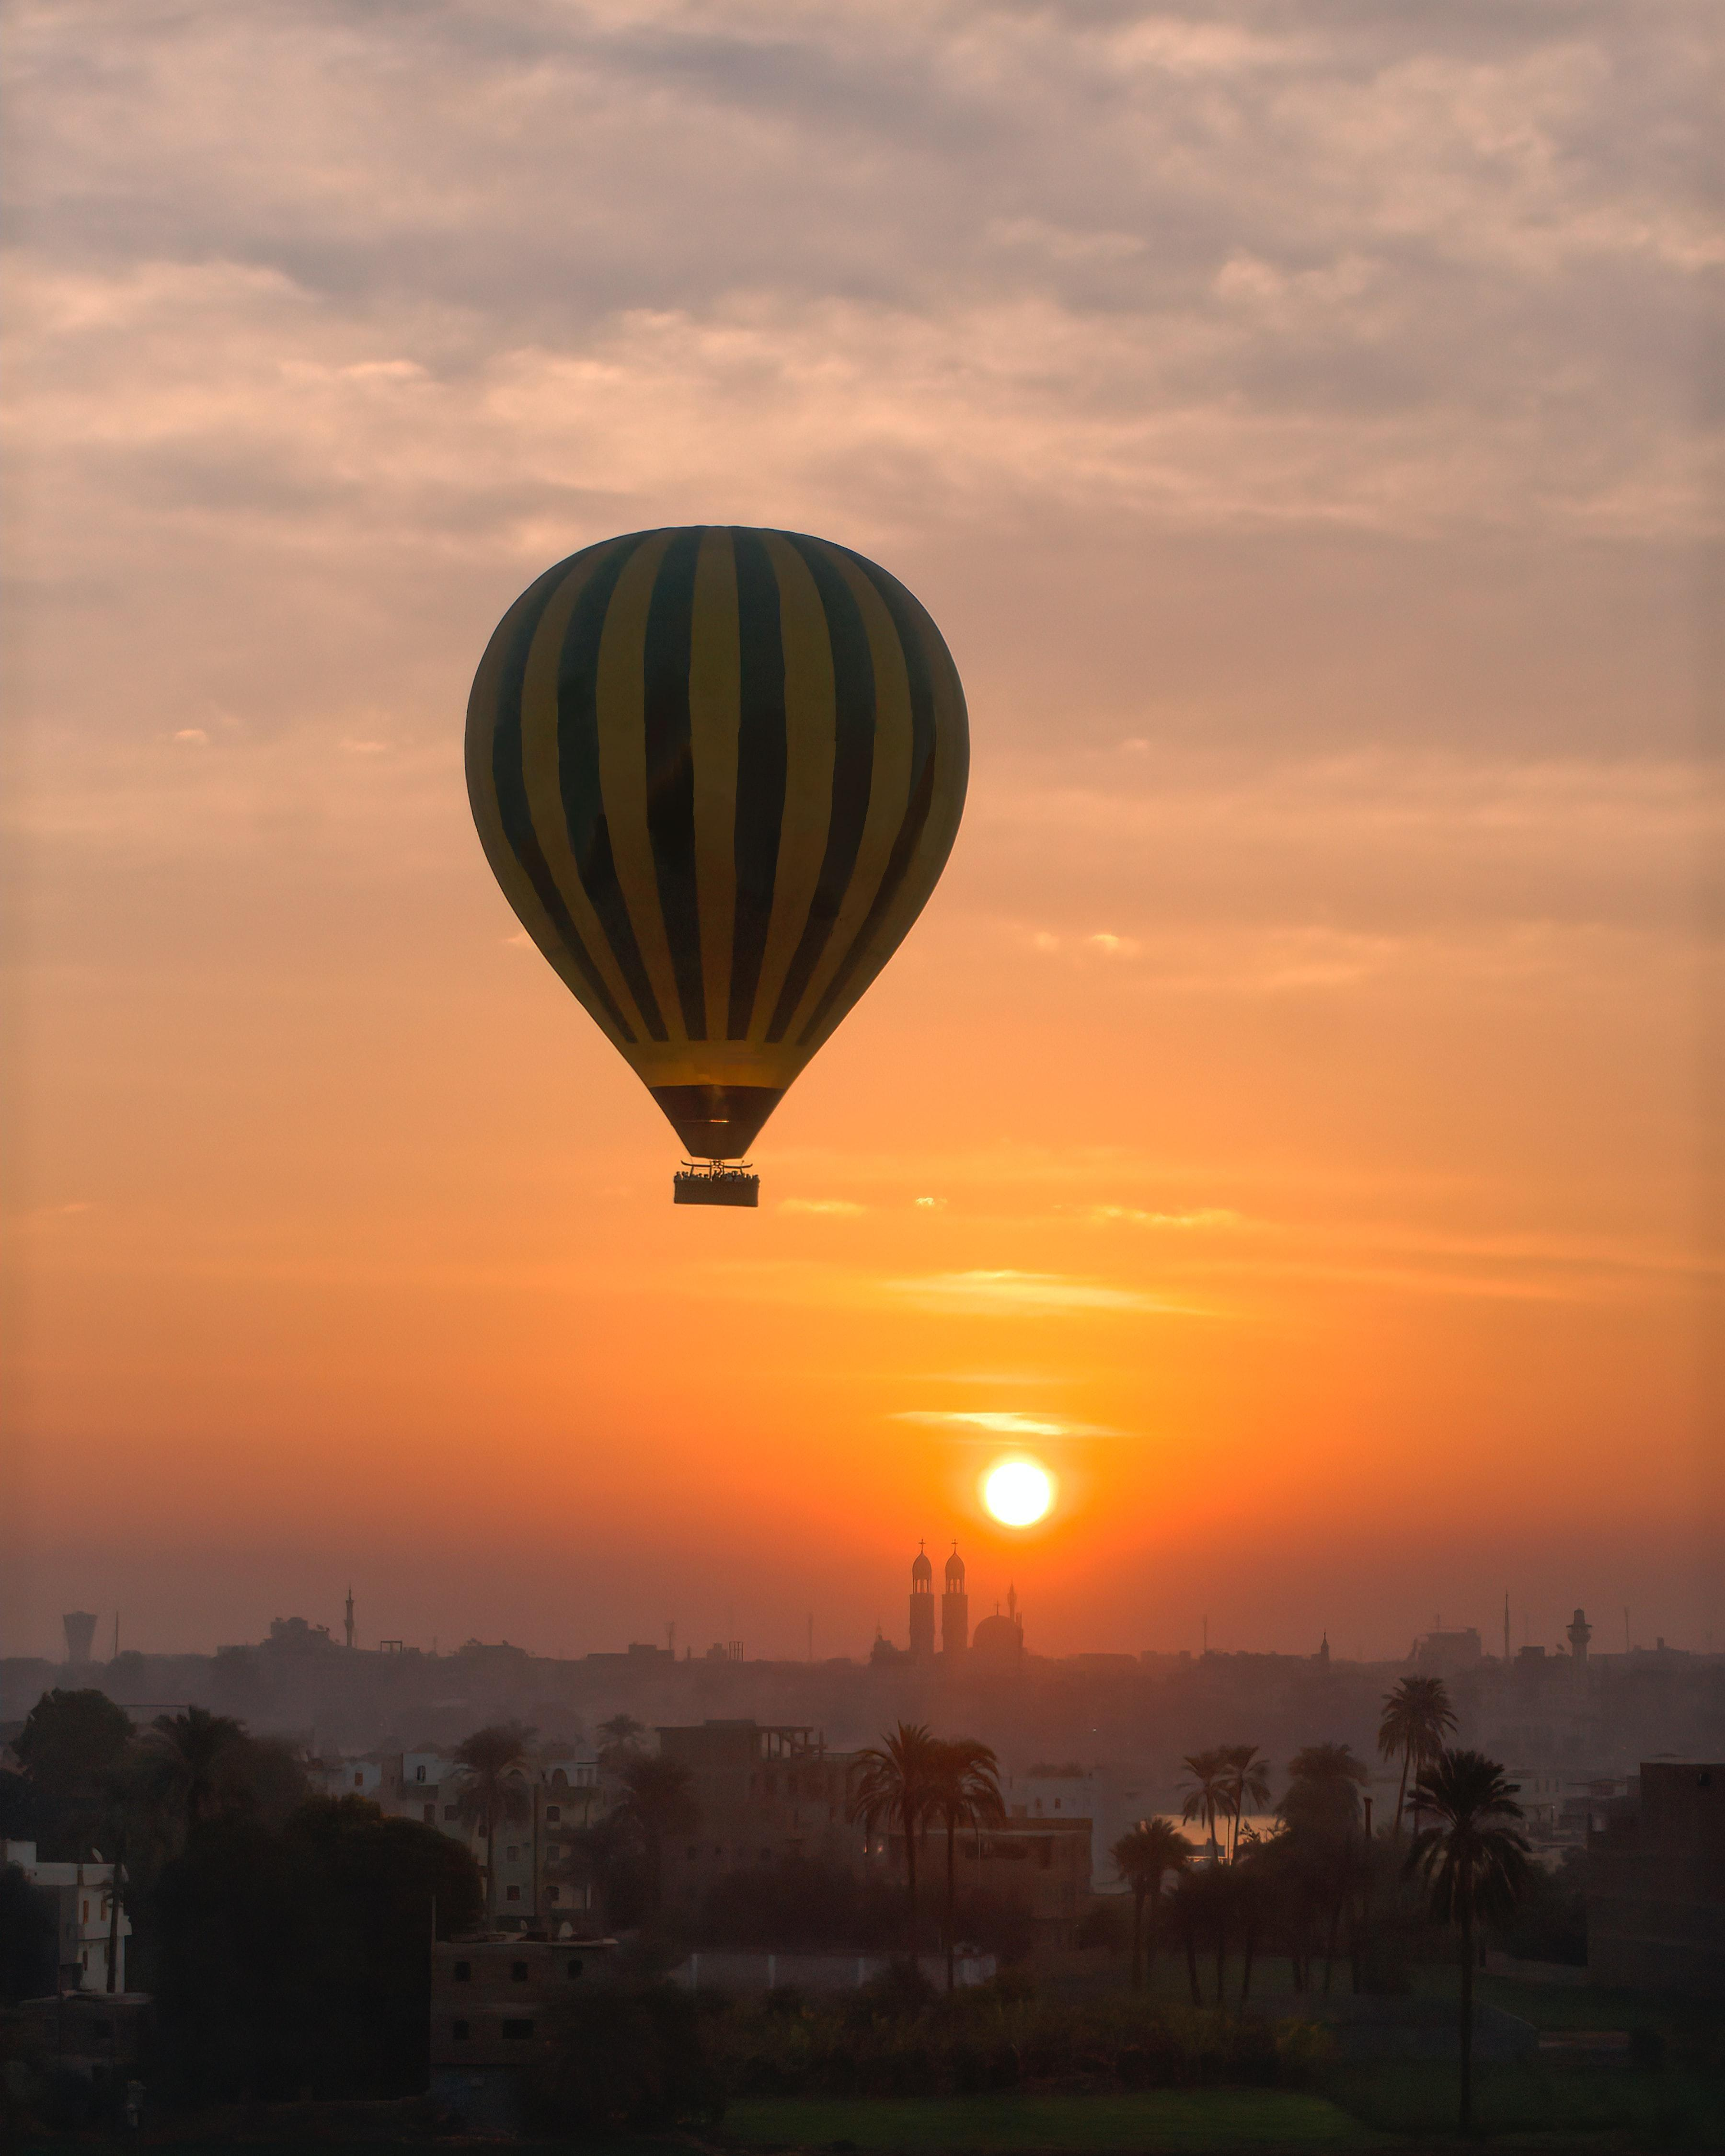hot air ballon: (461, 530, 968, 1202)
